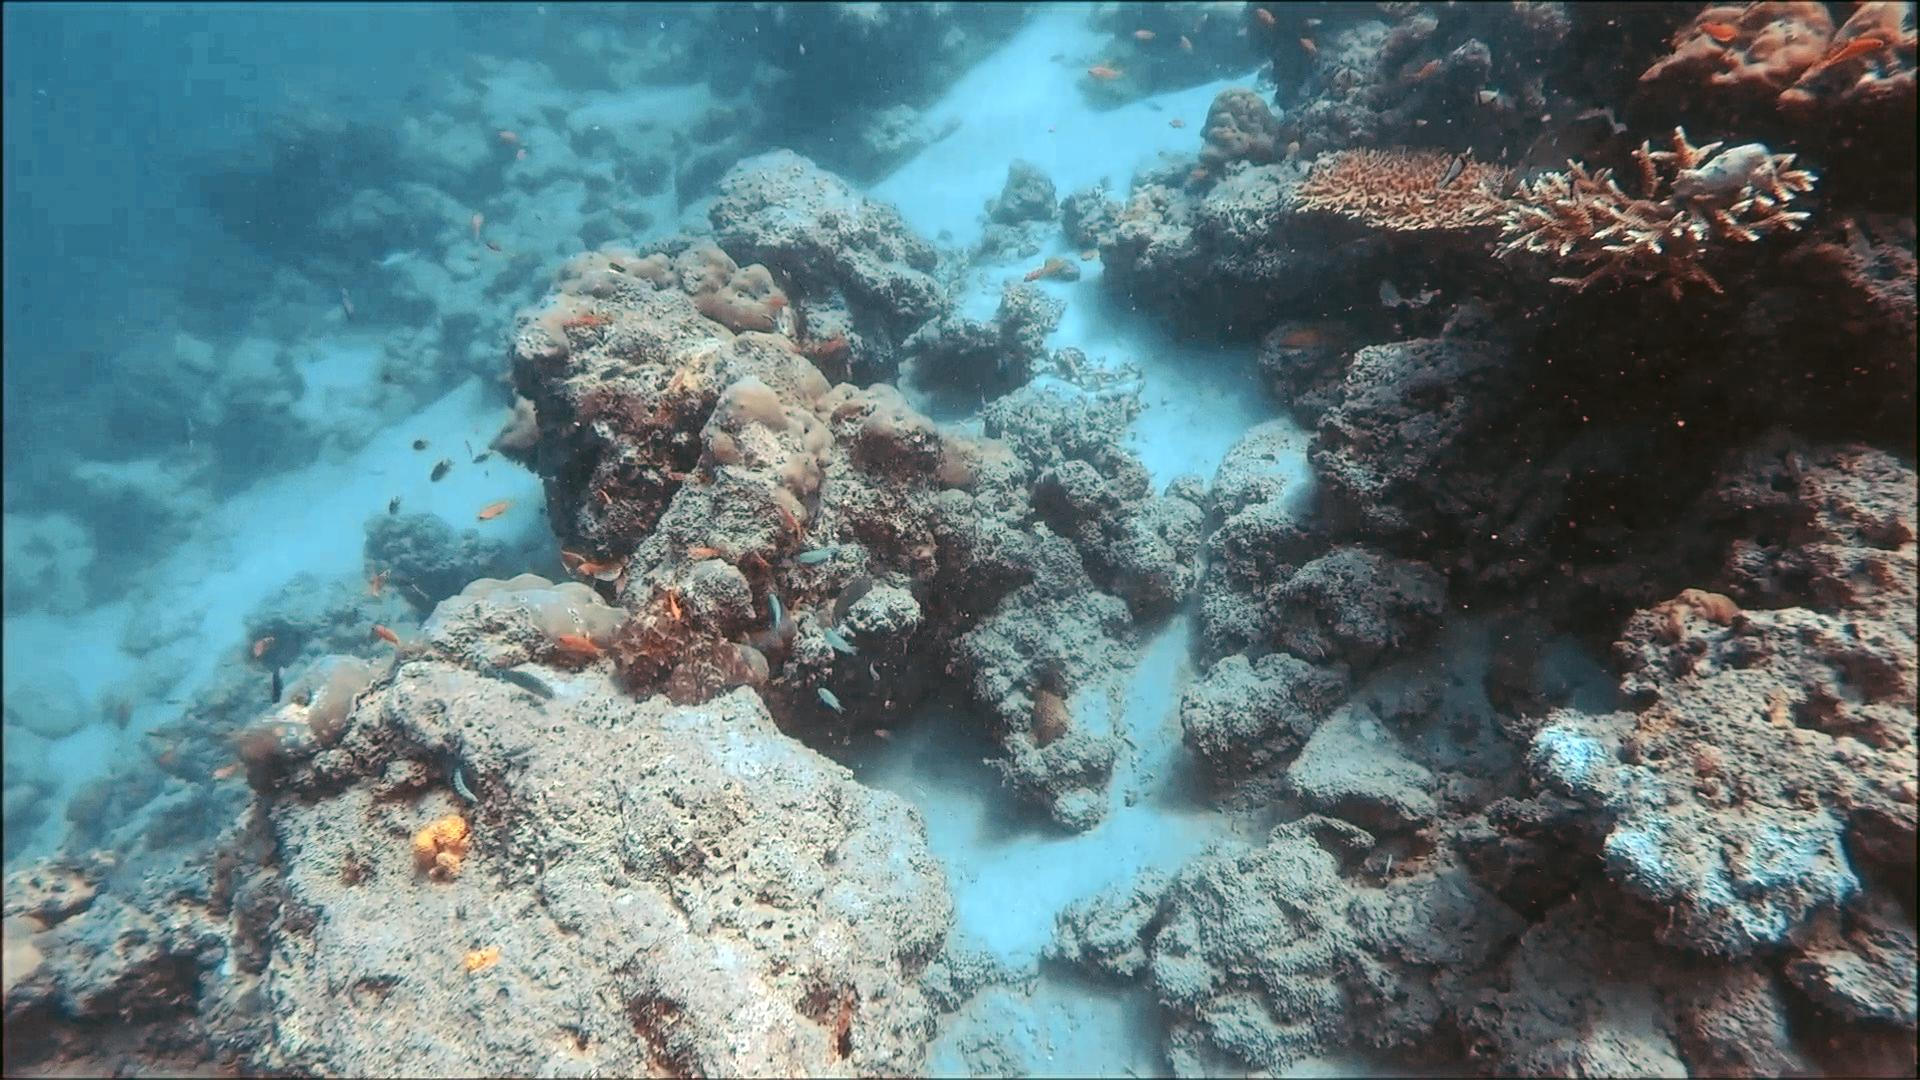Porites-Porites pukoensis: (642, 229, 876, 539)
